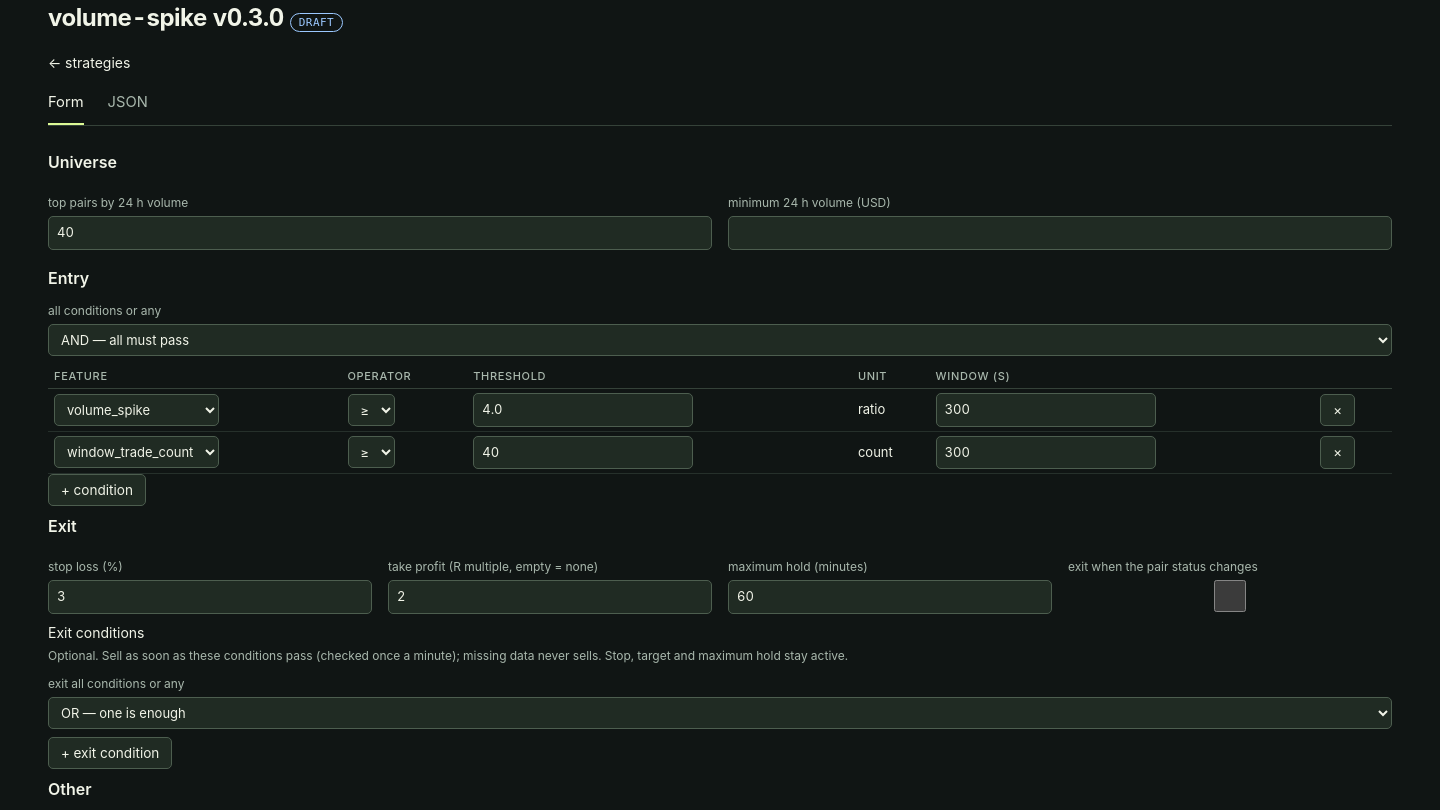
Test case: StrategyEditor (UI-05) › saves the draft with If-Match and reports a concurrent change
Replace the text in the field named "threshold 1" with "6": x=583, y=410 [473, 393, 693, 427]
(page scrolled)
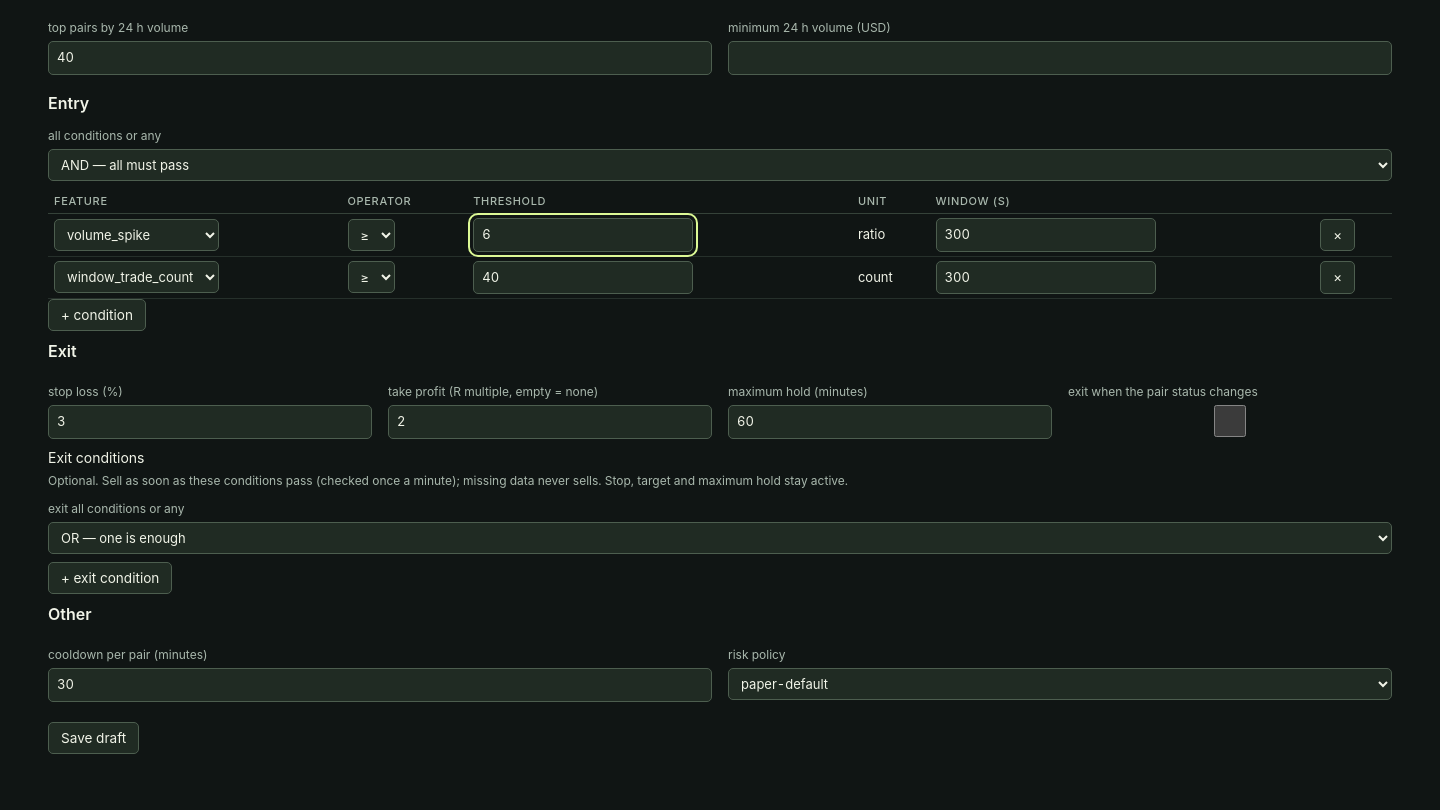
Click the button "Save draft": x=94, y=738 [48, 722, 139, 754]
(page scrolled)
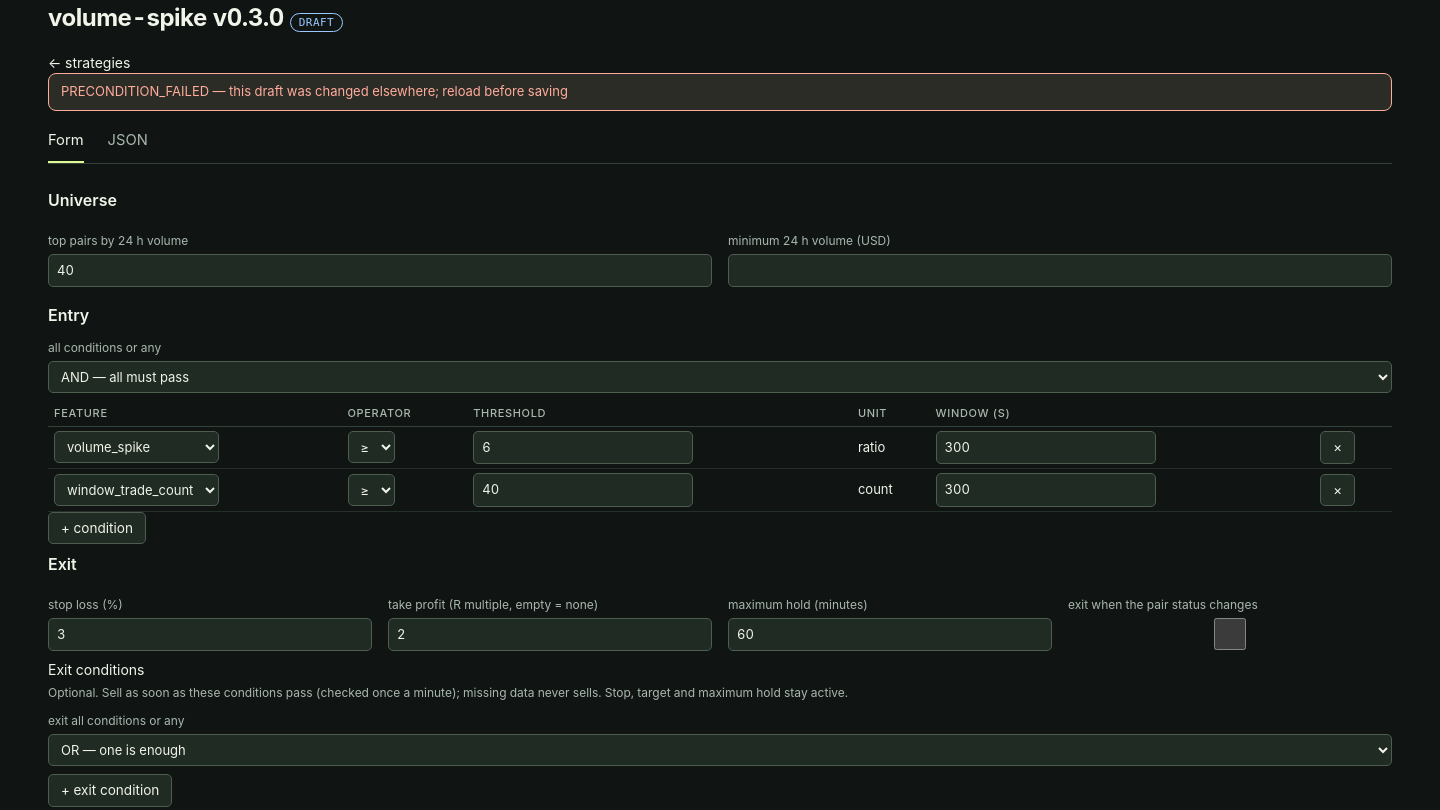
Expected: the text "PRECONDITION_FAILED — this draft was changed elsewhere; reload before saving" is shown, [48, 73, 1392, 110]
